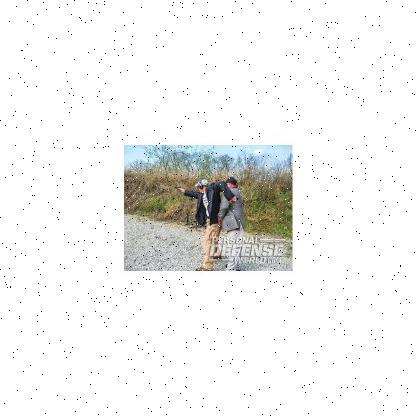gun: (172, 184, 180, 192)
